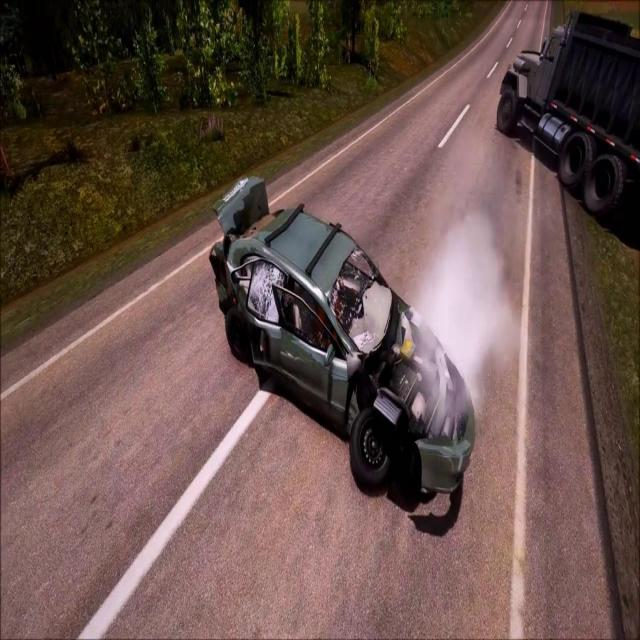accident: (206, 169, 480, 502)
